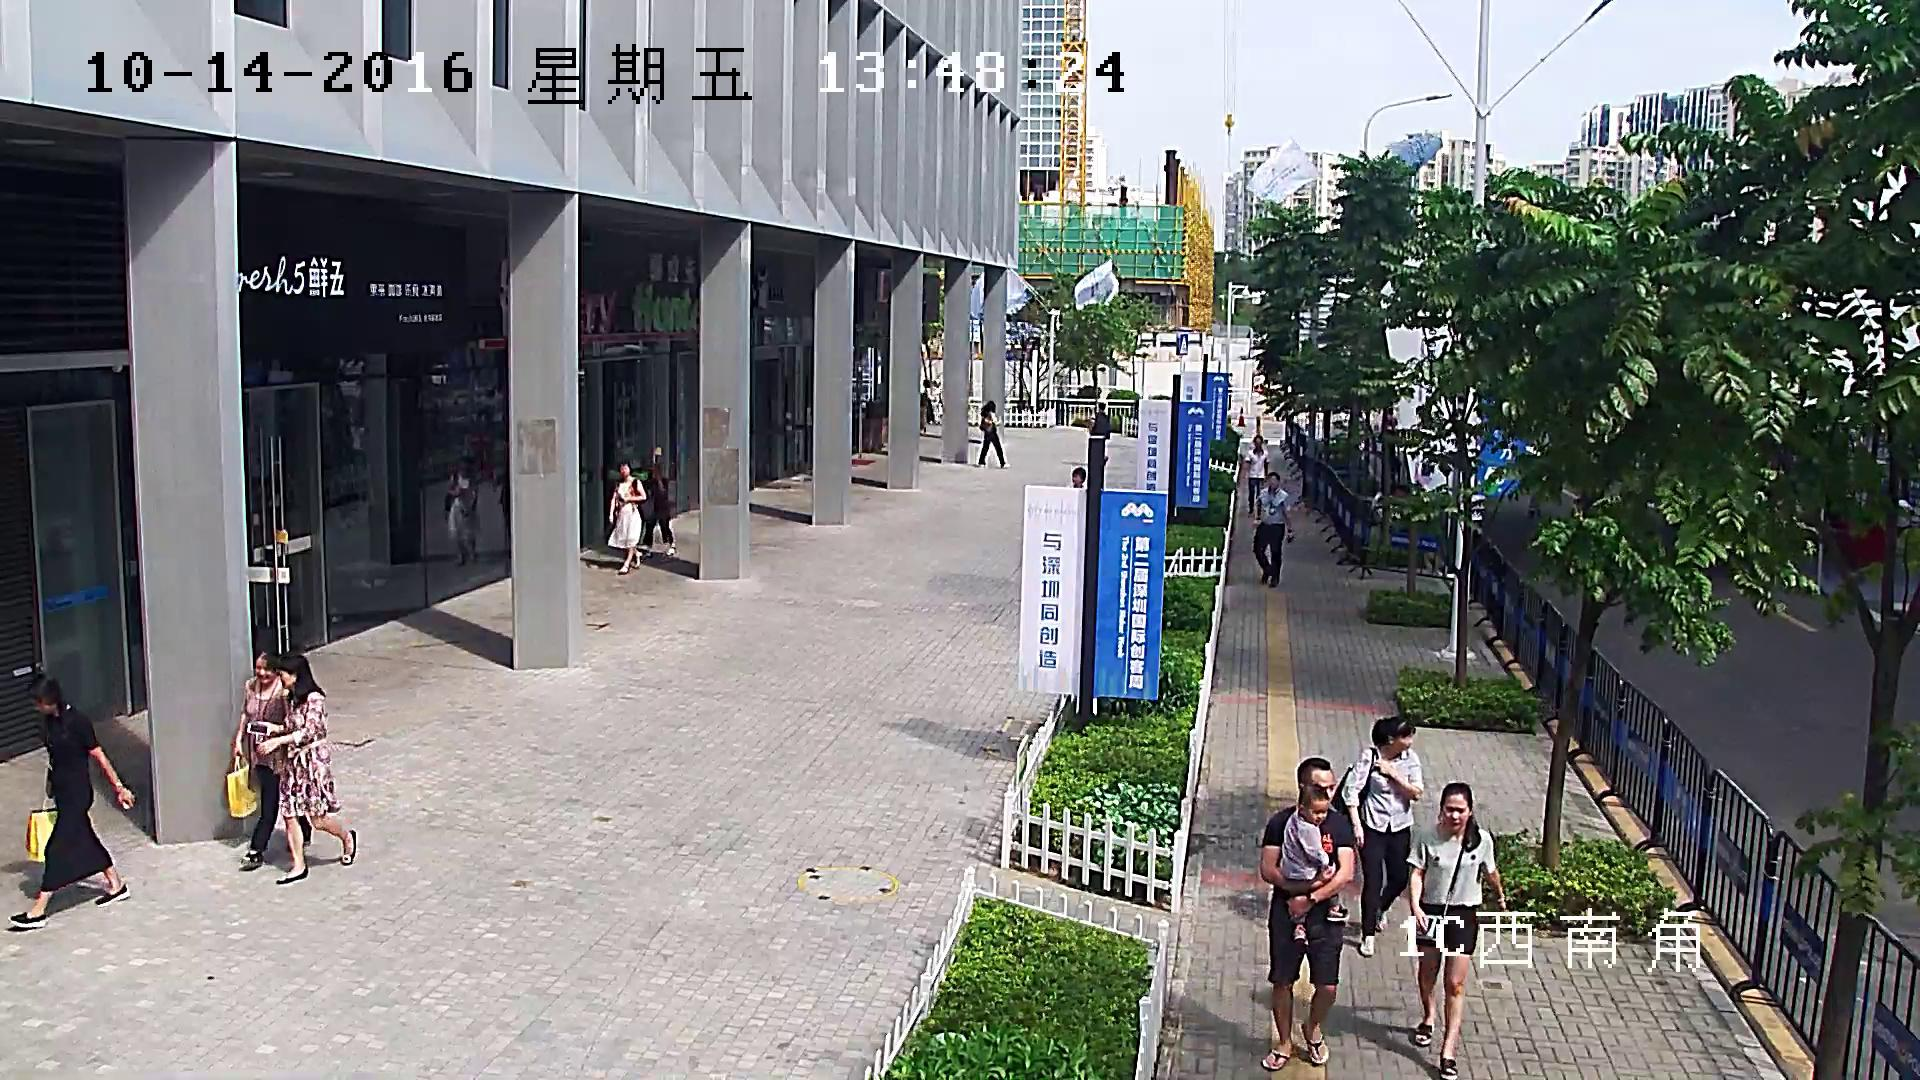person: (8, 678, 135, 928), (1406, 783, 1506, 1079), (1260, 757, 1354, 1070), (257, 653, 357, 884), (1332, 717, 1423, 956), (226, 651, 289, 866), (1279, 783, 1350, 947), (607, 461, 654, 574), (1254, 472, 1293, 587), (444, 458, 479, 565), (639, 466, 676, 556), (1242, 435, 1269, 520), (978, 400, 1009, 468), (1090, 402, 1110, 463)
